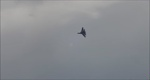maybay_muctieu: (76, 26, 88, 39)
